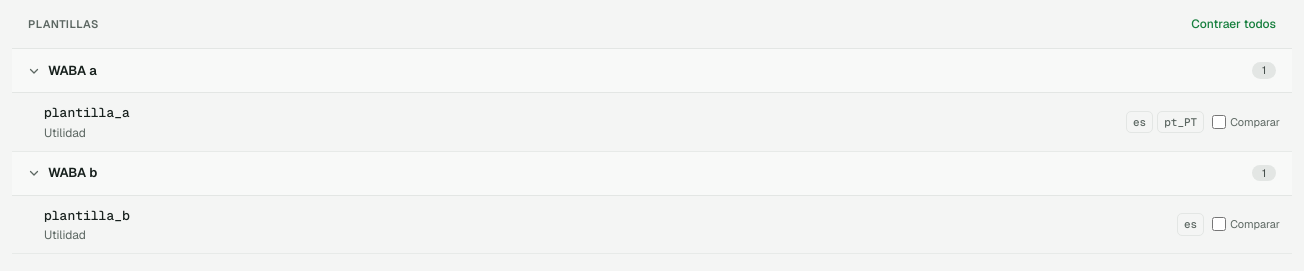
TemplateList › opens every group when a search or WABA selection starts, but lets the user collapse them
Expected: the number of buttons "plantilla_a Utilidad" is 2, left=44, top=93, right=1118, bottom=150; left=44, top=196, right=1169, bottom=253
Click the button "WABA b 1" at (73, 173), box left=12, top=152, right=1292, bottom=196
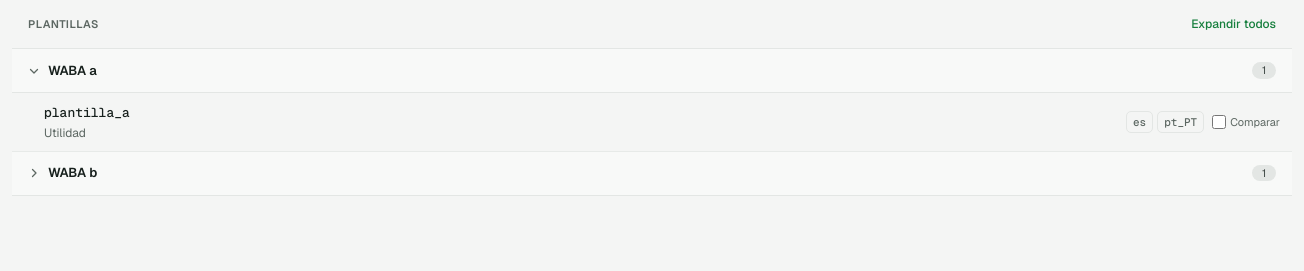
Expected: the number of buttons "plantilla_a Utilidad" is 1, left=44, top=93, right=1118, bottom=150
Click the button "Expandir todos" at (1234, 24), box left=1191, top=6, right=1276, bottom=42
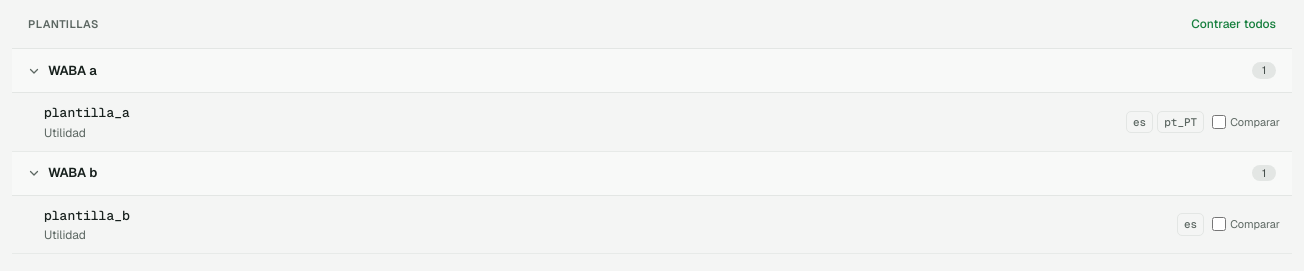
Result: the number of buttons "plantilla_a Utilidad" is 2 at left=44, top=93, right=1118, bottom=150; left=44, top=196, right=1169, bottom=253
Click the button "Contraer todos" at (1234, 24), box left=1191, top=6, right=1276, bottom=42
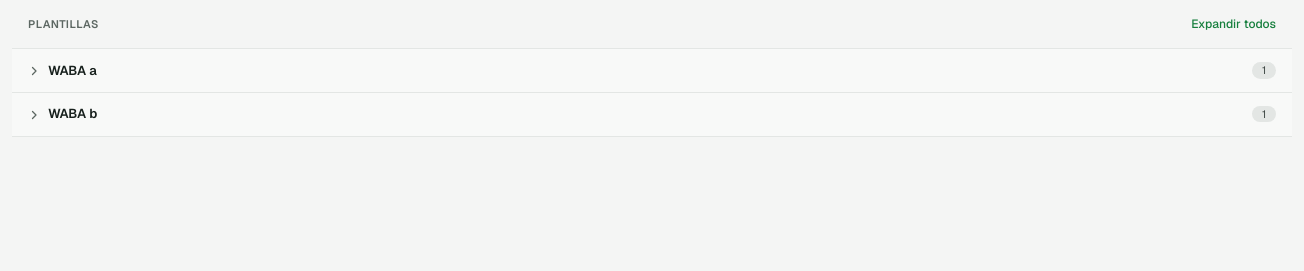
Result: no buttons "plantilla_" are shown
